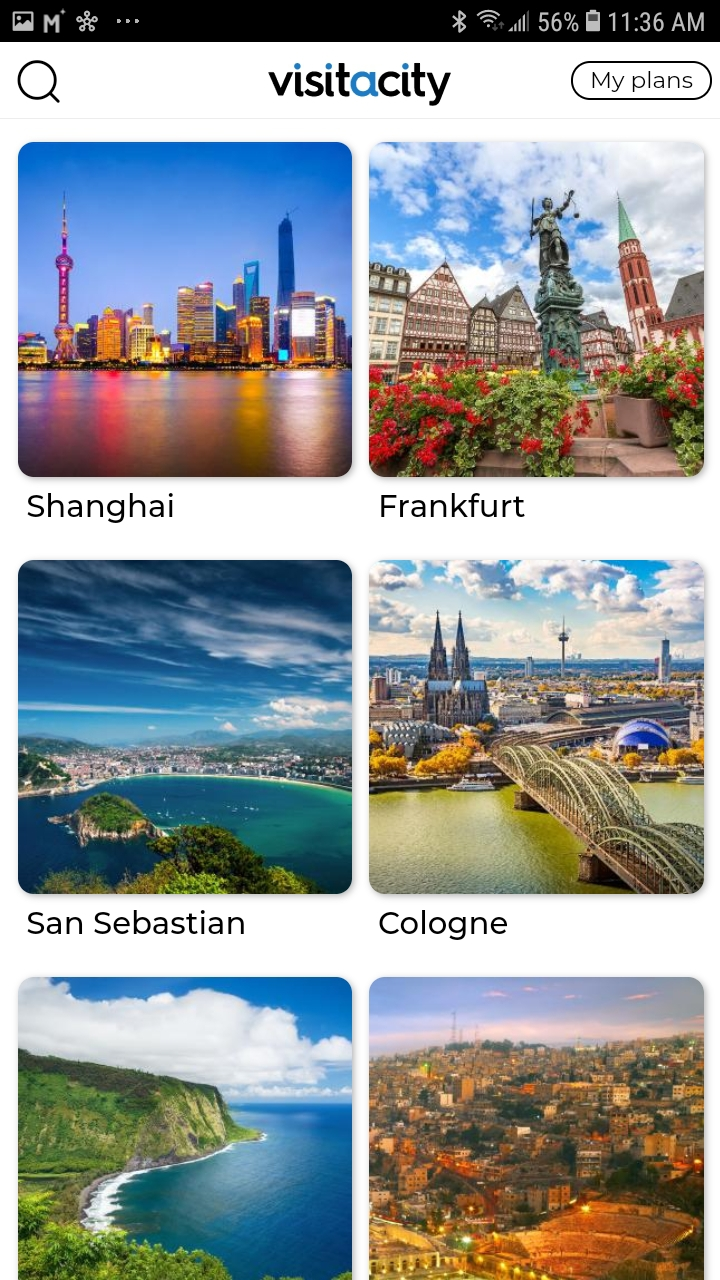Icon: (18, 60, 62, 105)
Image: (18, 142, 353, 478), (370, 142, 705, 478), (18, 560, 353, 895), (369, 560, 704, 895), (369, 977, 704, 1280), (19, 977, 353, 1280), (268, 63, 452, 108)
Text: (28, 909, 245, 935), (28, 493, 174, 524), (379, 910, 508, 941), (381, 493, 526, 518)
TextButton: (571, 62, 713, 102)
UpperTaskBar: (1, 1, 720, 43)
